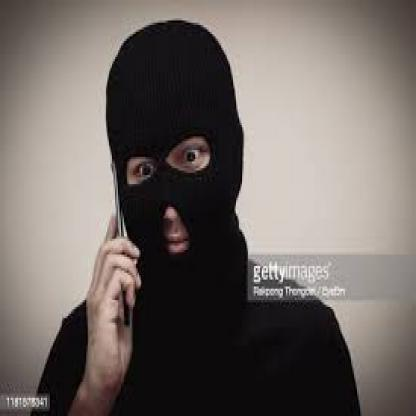criminal: (30, 19, 363, 416)
